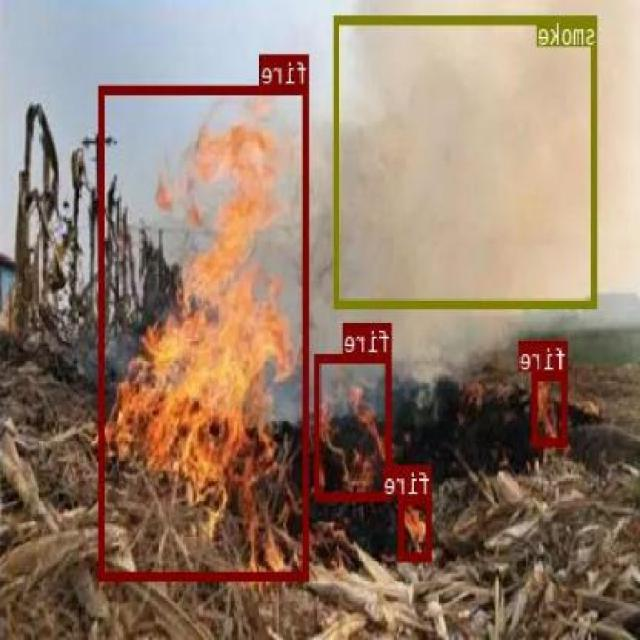smoke: (336, 13, 598, 306)
